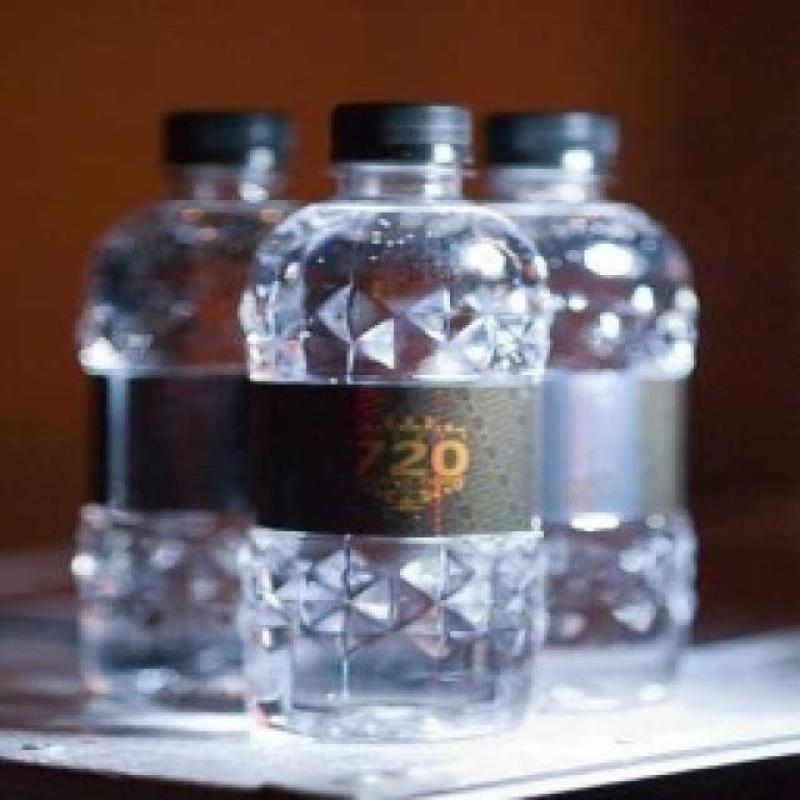botella: (240, 99, 558, 736), (74, 98, 316, 708), (462, 104, 703, 696)
